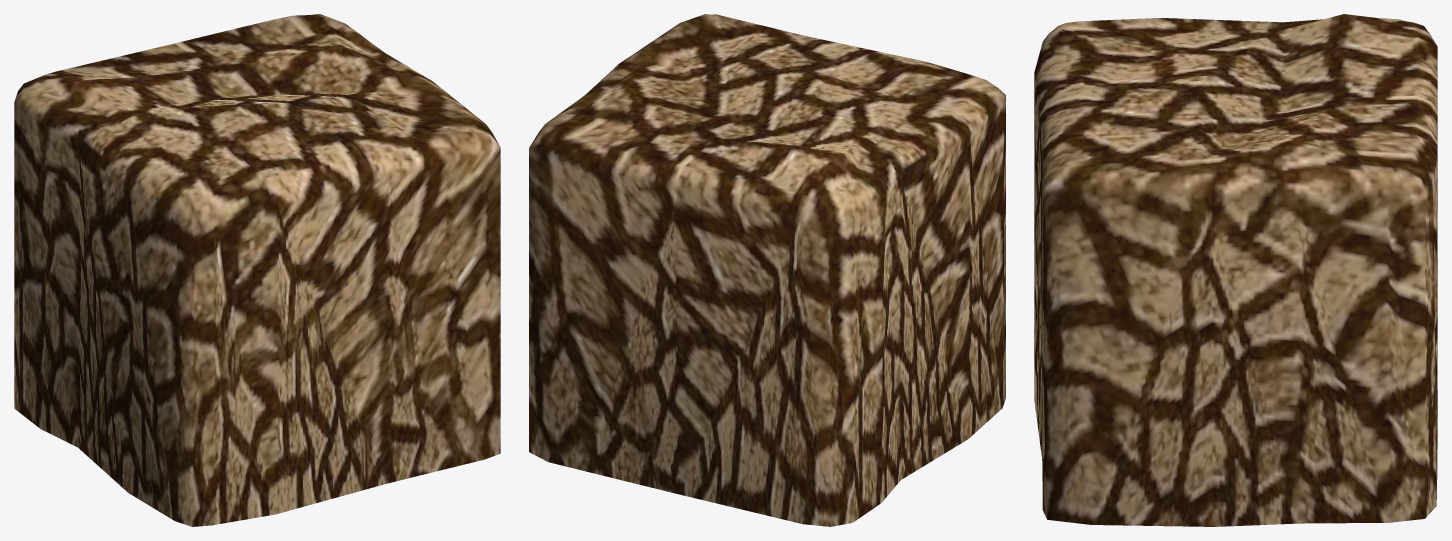
The model's file is Block_01.DAE.
3 views of the same model, side by side, from view 1: azimuth 30°, elevation 25°; view 2: azimuth 150°, elevation 25°; view 3: azimuth 270°, elevation 25° (orthographic). The views are drawn at different scales.
Visible parts, largest first — view 1: Box002; view 2: Box002; view 3: Box002.
Boxes of the visible parts, x1,y1,x2,y2 form: Box002: [14, 14, 500, 526]; Box002: [529, 14, 1005, 526]; Box002: [1034, 14, 1437, 526].
Size of the model in its own units: 31.53 by 30.47 by 30.85.
